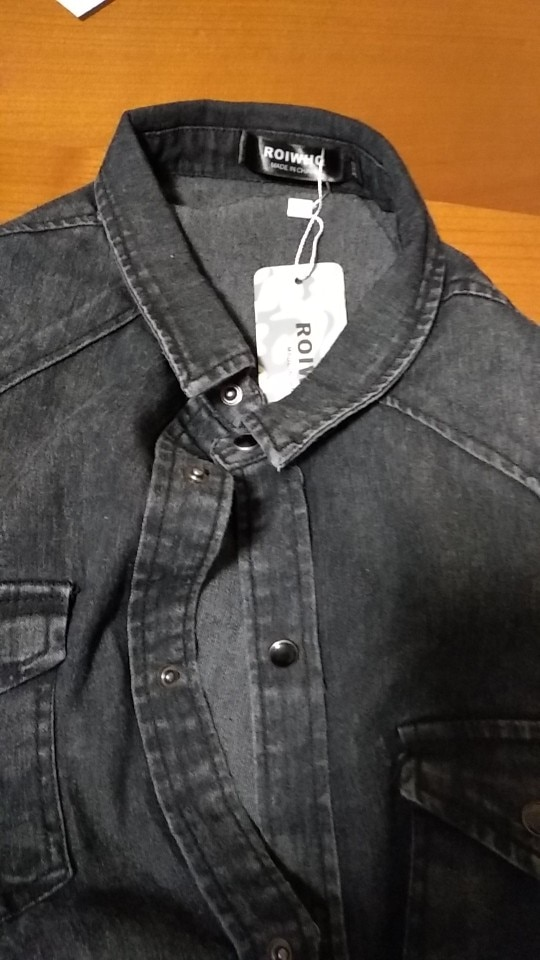shirts: (5, 96, 540, 945)
